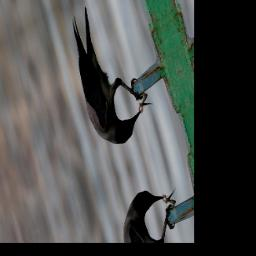Crow: (62, 0, 151, 161)
